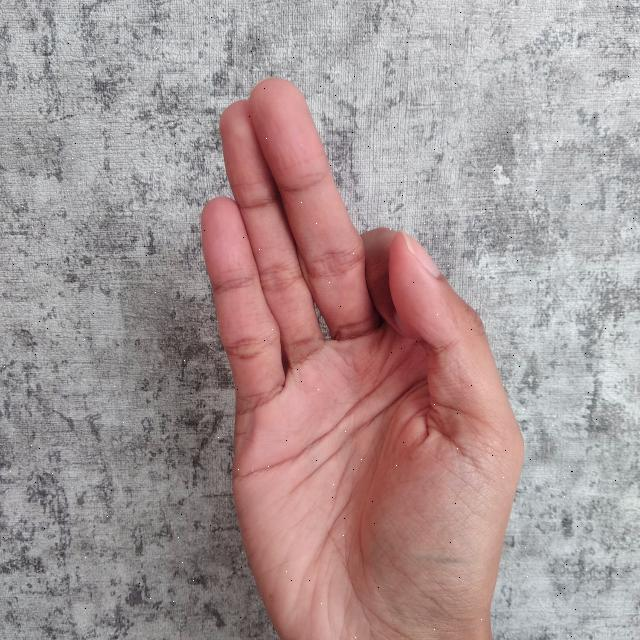F: (200, 68, 530, 640)
